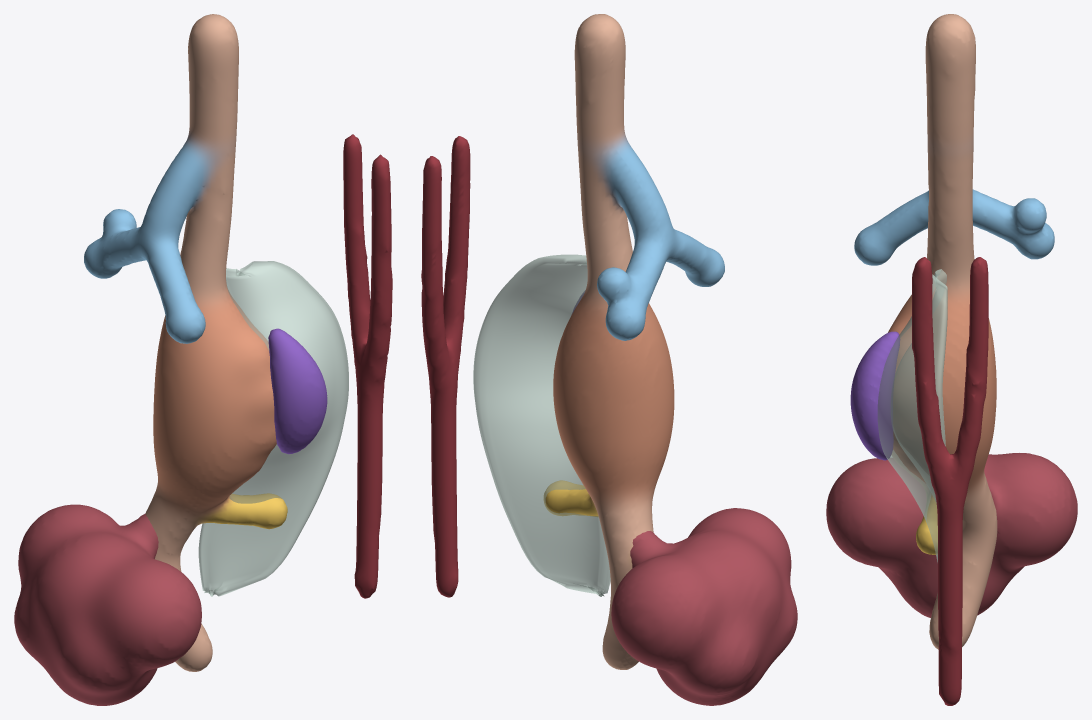
The model's file is e105_foregut_spleen.glb.
3 renders of one model, left to right at view 1: azimuth 30°, elevation 25°; view 2: azimuth 150°, elevation 25°; view 3: azimuth 270°, elevation 25°, orthographic.
Parts seen in each view (by area): view 1: Foregut_Stomach_Duodenum, LiverBud, DorsalMesogastrium, DorsalAorta_ref, SpleenAnlage; view 2: Foregut_Stomach_Duodenum, LiverBud, DorsalMesogastrium, DorsalAorta_ref; view 3: Foregut_Stomach_Duodenum, LiverBud, DorsalAorta_ref, DorsalMesogastrium, SpleenAnlage.
Part boxes in pixels (bbox=[...]): Foregut_Stomach_Duodenum: bbox=[84, 14, 287, 671]; LiverBud: bbox=[14, 504, 201, 705]; DorsalMesogastrium: bbox=[198, 261, 348, 596]; DorsalAorta_ref: bbox=[343, 134, 392, 598]; SpleenAnlage: bbox=[268, 328, 327, 454]; Foregut_Stomach_Duodenum: bbox=[543, 14, 724, 669]; LiverBud: bbox=[611, 508, 797, 705]; DorsalMesogastrium: bbox=[473, 254, 610, 596]; DorsalAorta_ref: bbox=[421, 136, 470, 597]; Foregut_Stomach_Duodenum: bbox=[854, 14, 1054, 649]; LiverBud: bbox=[826, 453, 1077, 617]; DorsalAorta_ref: bbox=[912, 257, 988, 705]; DorsalMesogastrium: bbox=[877, 269, 947, 562]; SpleenAnlage: bbox=[850, 331, 900, 460].
Bounding box in the file's own units: 8.58 × 15.82 × 5.51.
